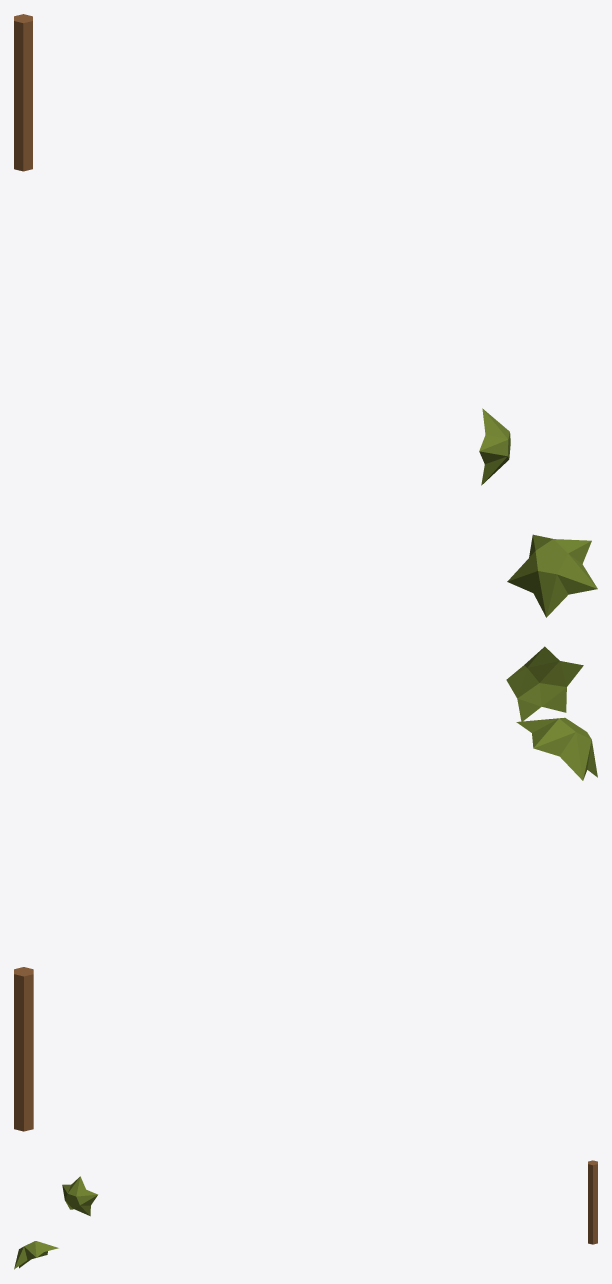
The picture shows the model from 3 angles, top to bottom: view 1: azimuth 30°, elevation 25°; view 2: azimuth 150°, elevation 25°; view 3: azimuth 270°, elevation 25°; orthographic projection. The views are drawn at different scales.
Visible parts, largest first — view 1: Box16112_green2_0, Cylinder1722_brown_0, Box16120_green2_0; view 2: Cylinder1722_brown_0, Box16120_green2_0, Box16112_green2_0; view 3: Cylinder1722_brown_0, Box16120_green2_0, Box16112_green2_0.
Boxes of the visible parts, left/top/right/bottom form: Box16112_green2_0: left=507, top=534, right=597, bottom=617; Cylinder1722_brown_0: left=14, top=14, right=32, bottom=171; Box16120_green2_0: left=479, top=408, right=510, bottom=485; Cylinder1722_brown_0: left=14, top=967, right=33, bottom=1131; Box16120_green2_0: left=506, top=646, right=583, bottom=722; Box16112_green2_0: left=516, top=717, right=597, bottom=780; Cylinder1722_brown_0: left=588, top=1160, right=597, bottom=1244; Box16120_green2_0: left=62, top=1176, right=97, bottom=1216; Box16112_green2_0: left=14, top=1241, right=58, bottom=1269.
Bounding box in the file's own units: 151 × 330 × 1602.
